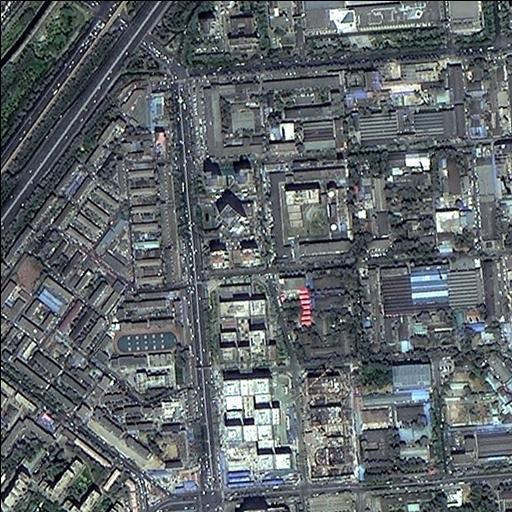school: (94, 318, 192, 402), (117, 77, 154, 130)
